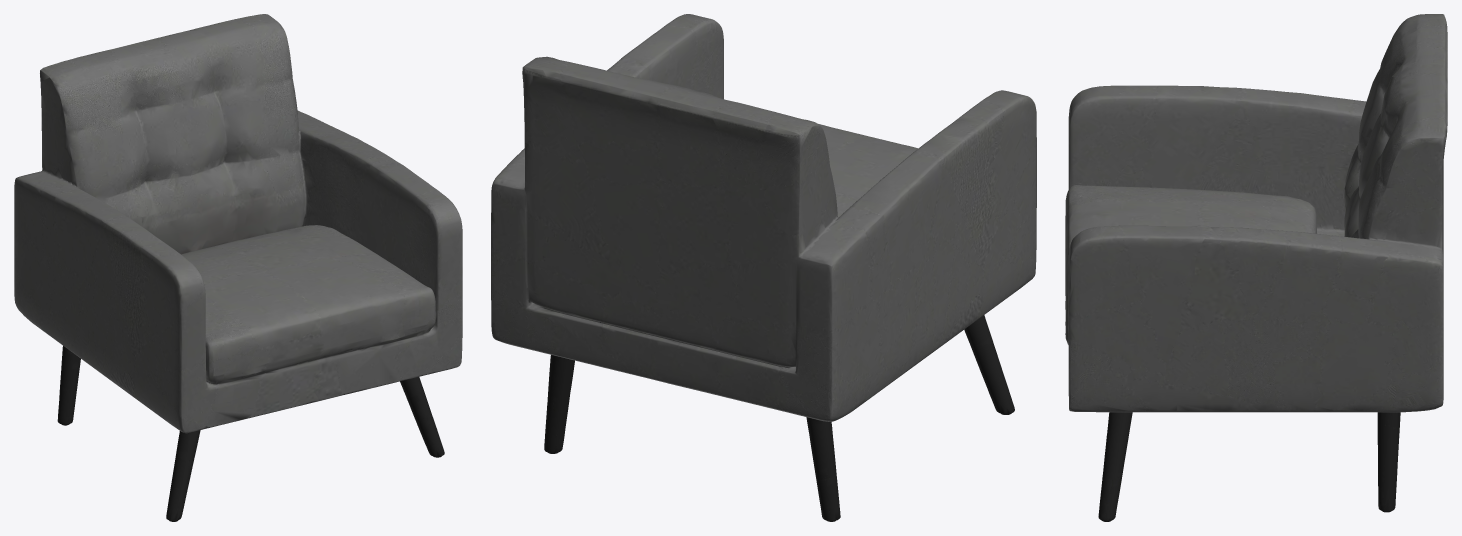
The model's file is sessel.glb.
3 renders of one model, left to right at view 1: azimuth 30°, elevation 25°; view 2: azimuth 150°, elevation 25°; view 3: azimuth 270°, elevation 25°, orthographic. The views are drawn at different scales.
Parts seen in each view (by area): view 1: mesh_node; view 2: mesh_node; view 3: mesh_node.
Boxes of the visible parts, x1,y1,x2,y2 form: mesh_node: [14, 14, 462, 521]; mesh_node: [491, 14, 1036, 521]; mesh_node: [1065, 14, 1447, 521].
Size of the model in its own units: 1.67 by 1.9 by 1.75.
Materials: 1 (1 with a texture image).
